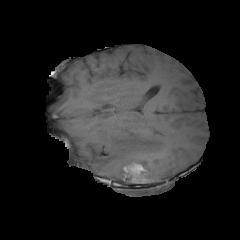glioma: (92, 124, 174, 181)
